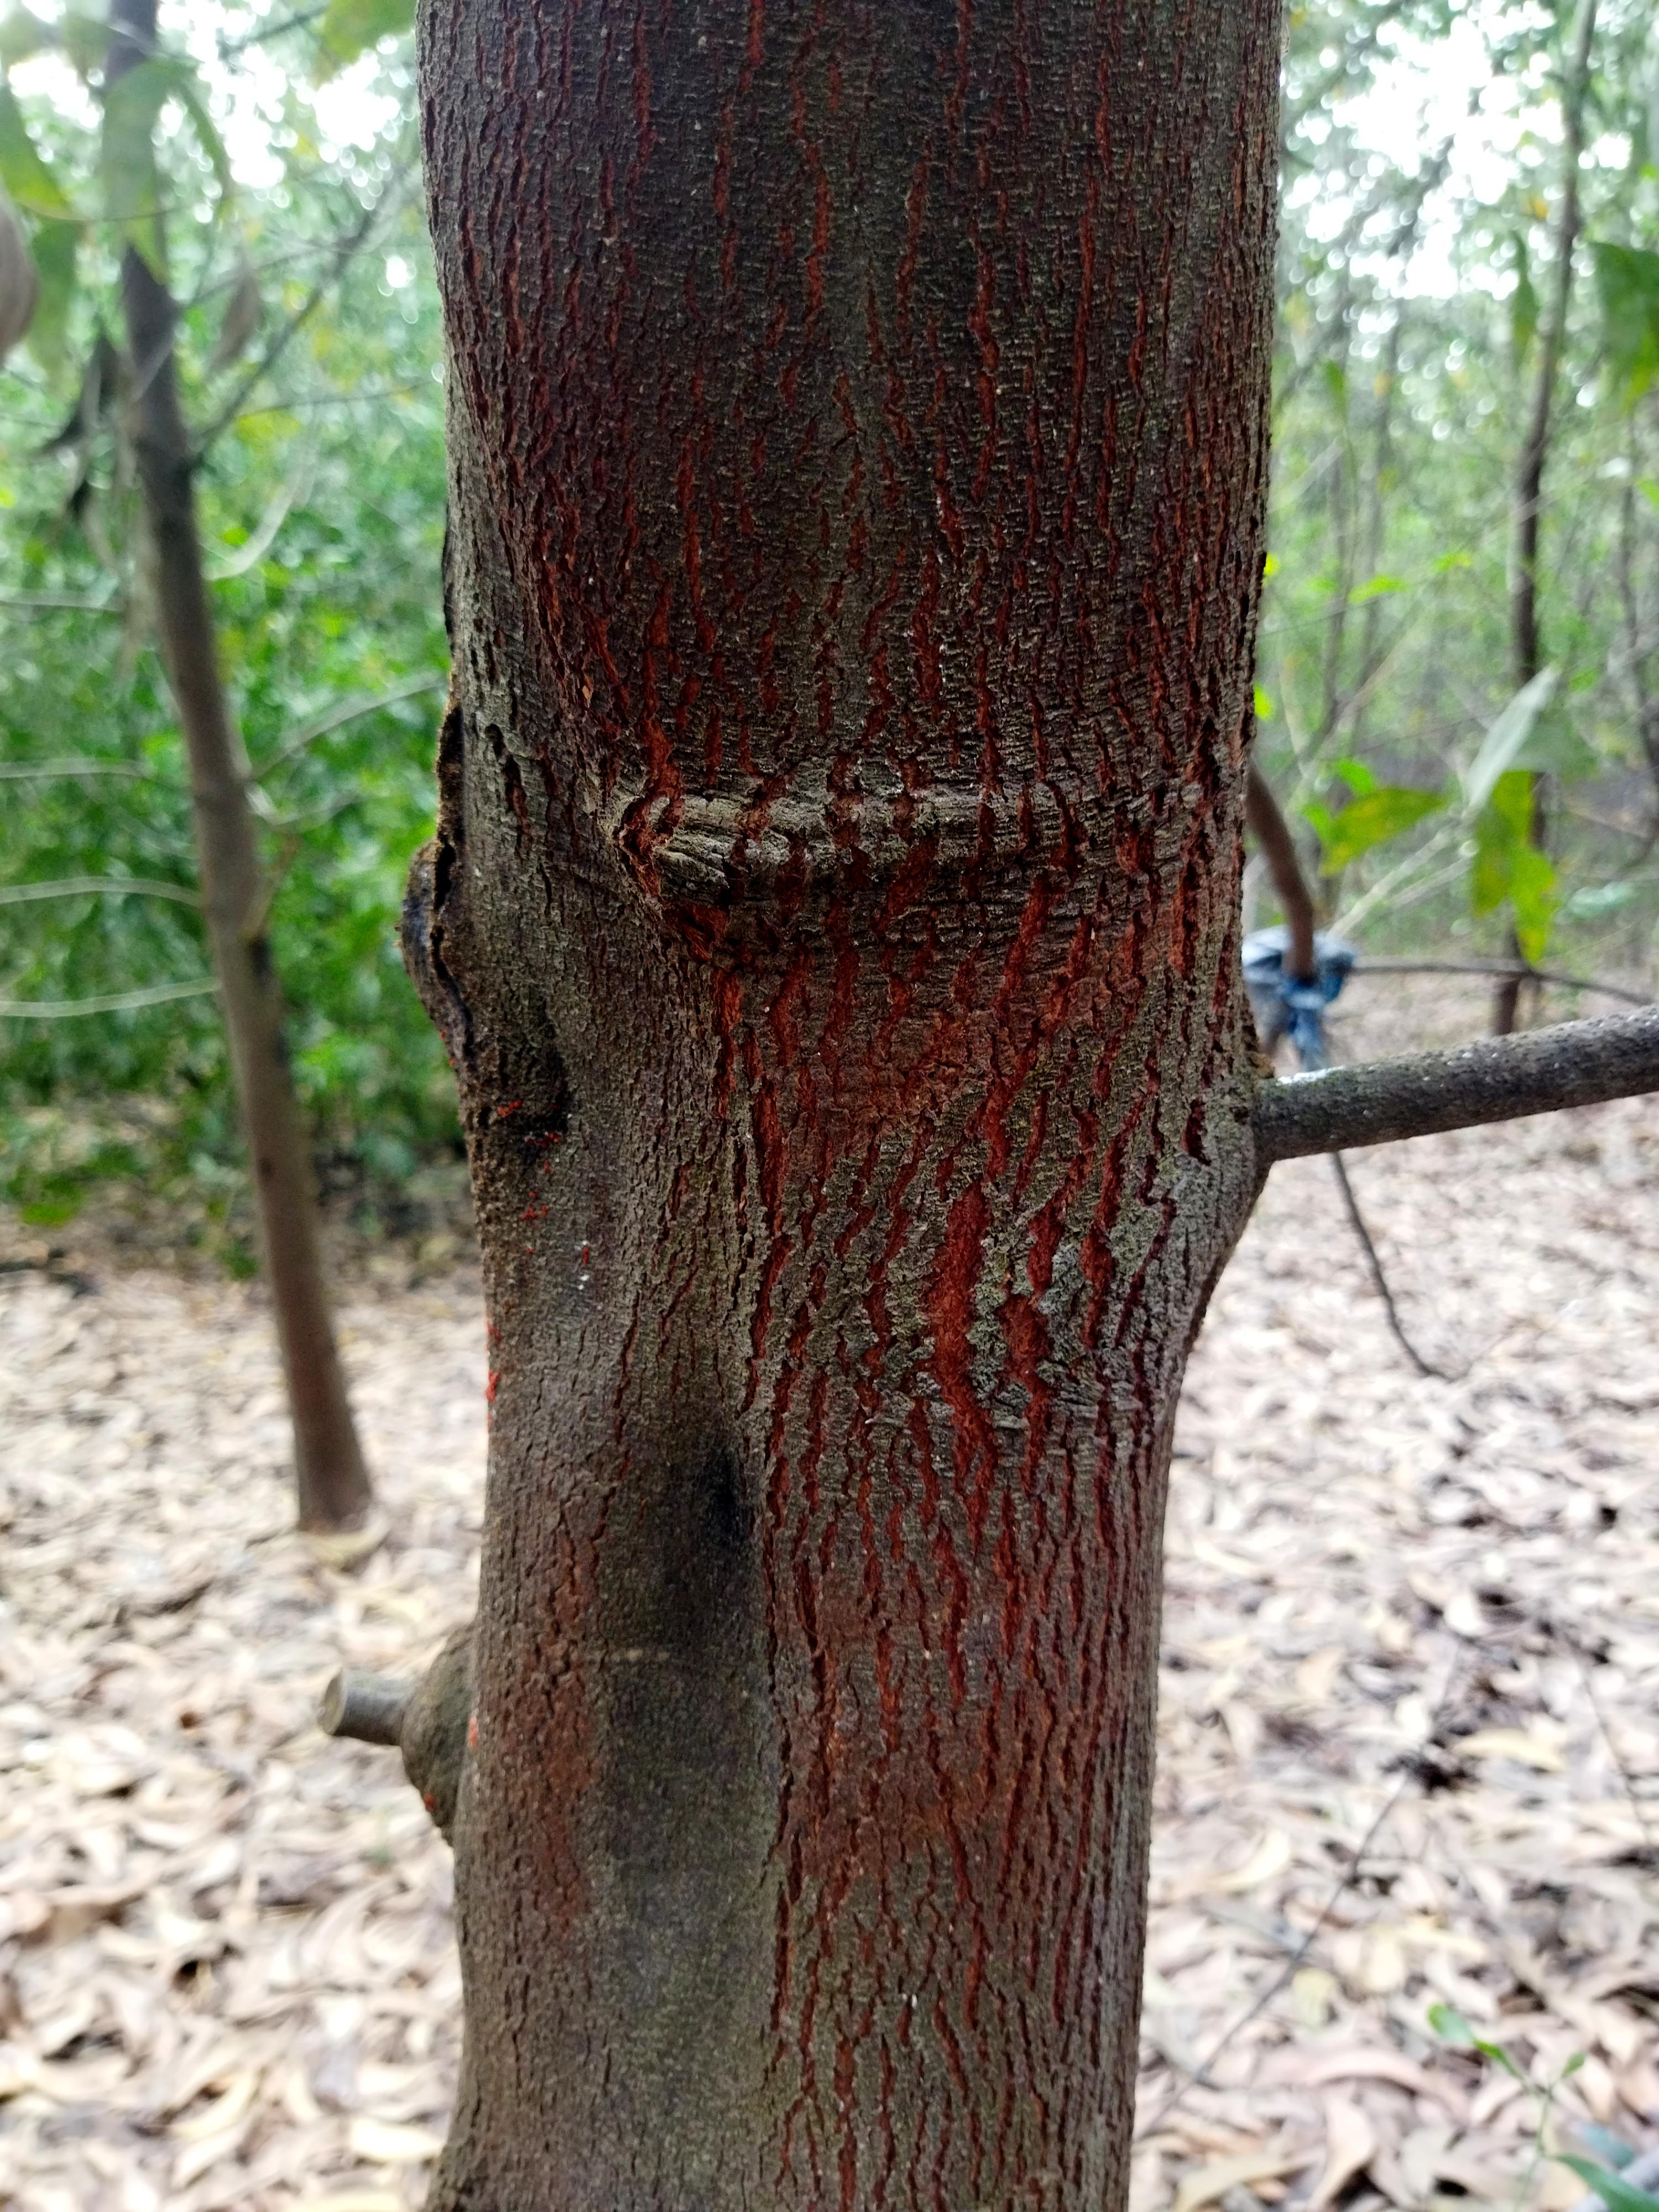Stem Deformation: (592, 350, 1199, 2209)
